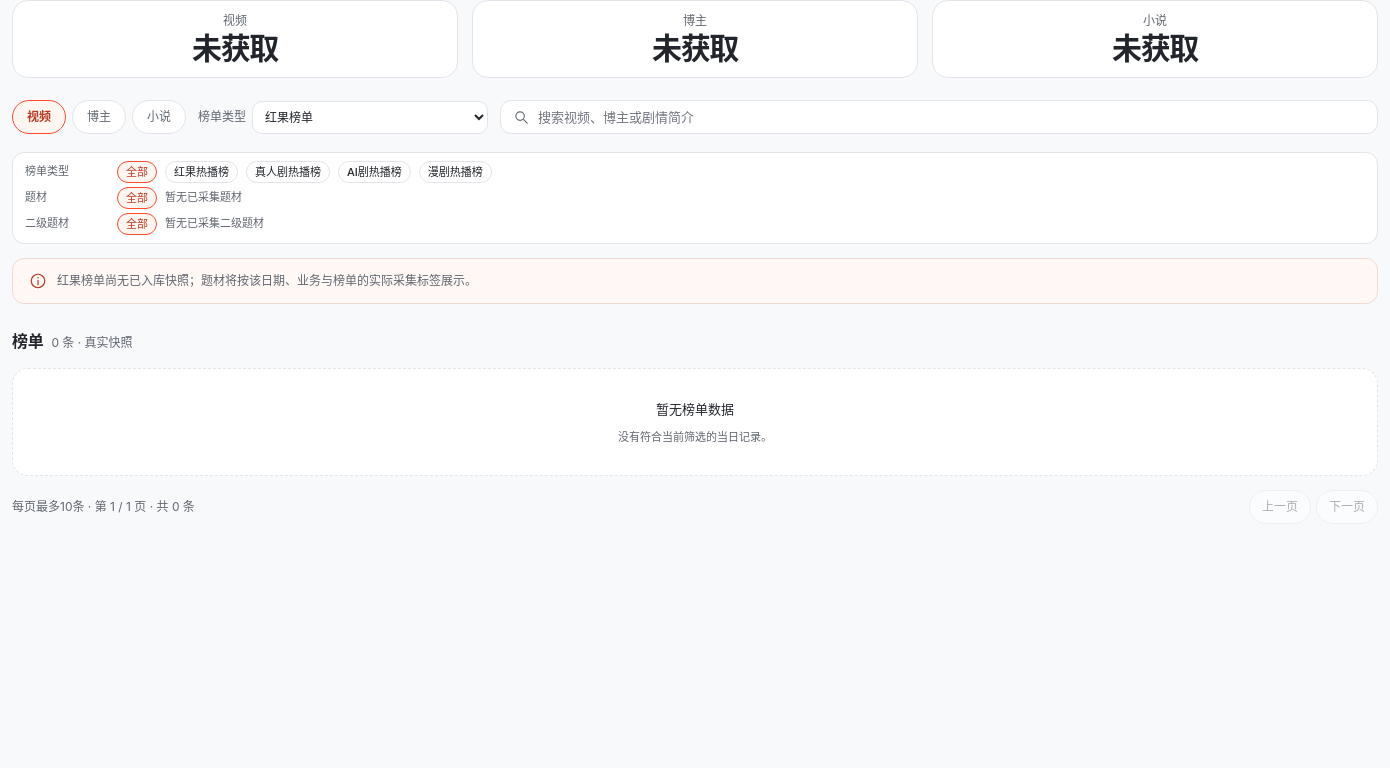
Test: 小说入口不使用视频接口或演示数据，不显示视频互动指标
The width and height of the screenshot is (1390, 768).
Expected: the text "红果榜单尚无已入库快照；题材将按该日期、业务与榜单的实际采集标签展示。" is shown, 57,271 -> 477,291
Click the button "小说".
click(159, 117)  # box 132,100 -> 186,134
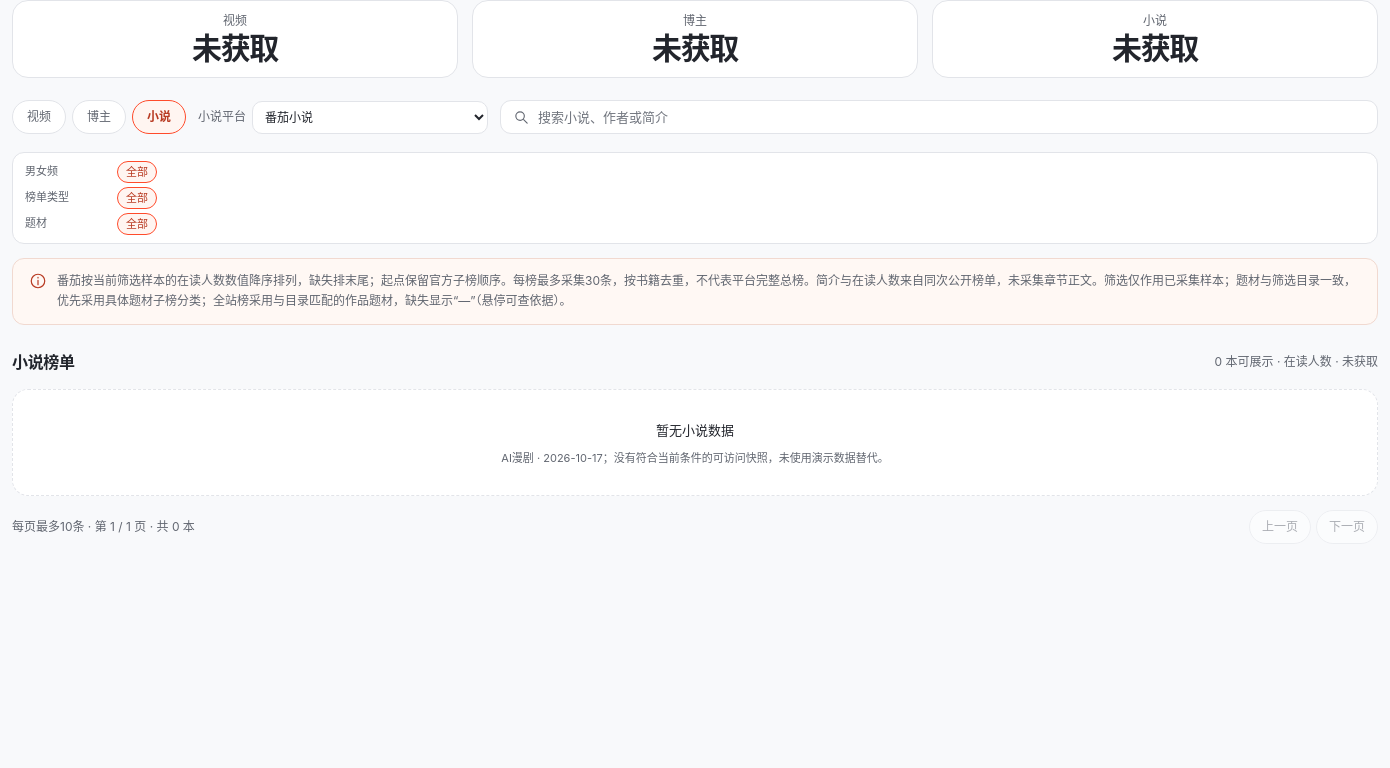
Expected: the text "暂无小说数据" is shown, 656,422 -> 734,438
Expected: the button "视频" is shown
Expected: the text "0 本可展示 · 在读人数 · 未获取" is shown, 1215,352 -> 1378,372
Click the button "视频".
click(39, 117)  # box 12,100 -> 66,134
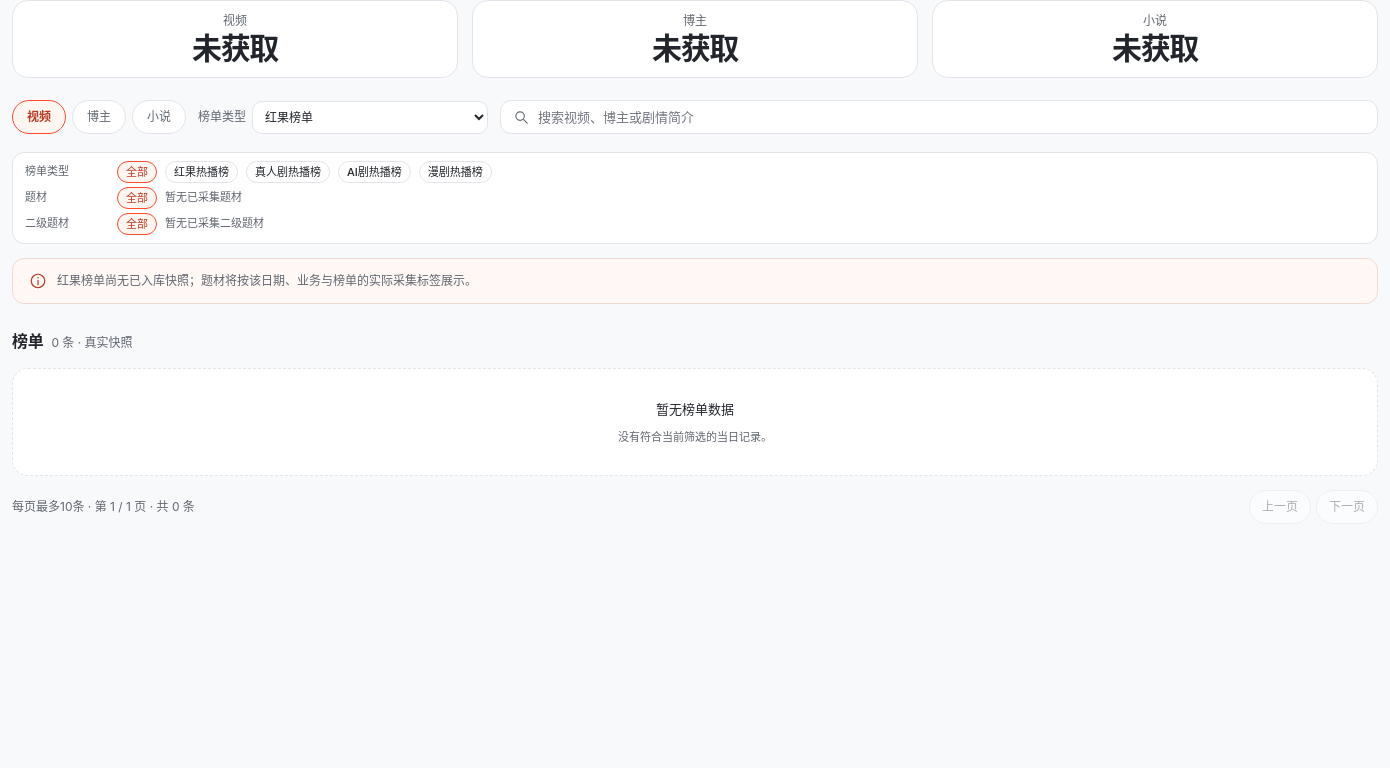
Expected: the text "红果榜单尚无已入库快照；题材将按该日期、业务与榜单的实际采集标签展示。" is shown, 57,271 -> 477,291
